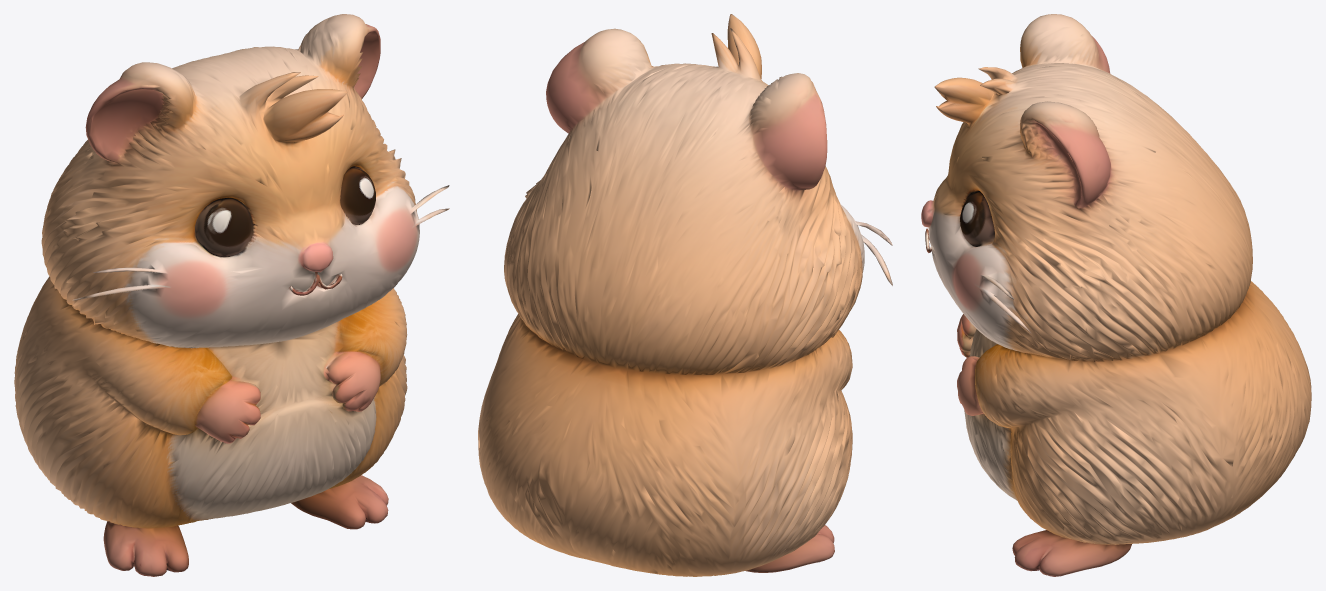
File: tuantuan_adult.glb
3 views of the same model, side by side, from view 1: azimuth 30°, elevation 25°; view 2: azimuth 150°, elevation 25°; view 3: azimuth 270°, elevation 25° (orthographic). The views are drawn at different scales.
Visible parts, largest first — view 1: node_0; view 2: node_0; view 3: node_0.
Part boxes in pixels (x1=…): node_0: x1=14, y1=14, x2=449, y2=576; node_0: x1=478, y1=14, x2=892, y2=576; node_0: x1=921, y1=14, x2=1311, y2=576.
Bounding box in the file's own units: 0.7944 × 0.9992 × 0.773.
Materials: 1 (1 with a texture image).
